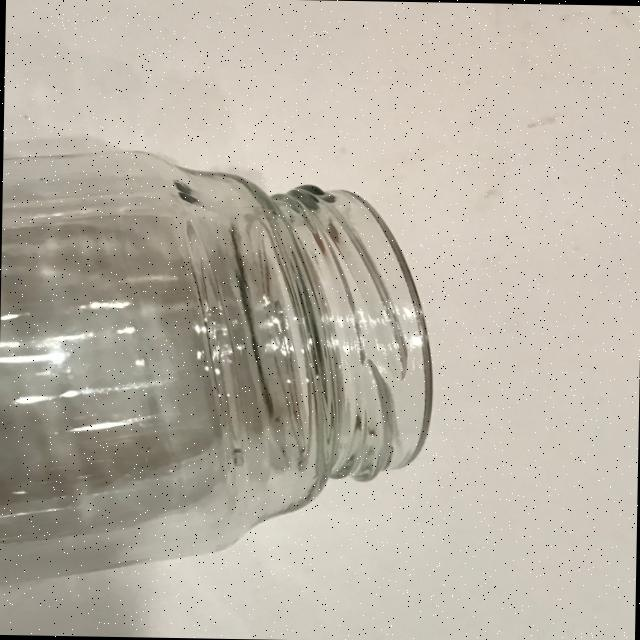glass: (0, 146, 437, 592)
